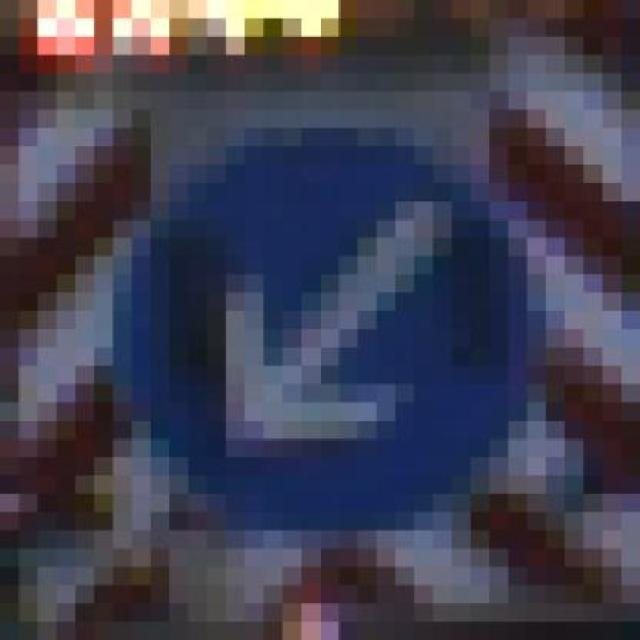Keep-Left: (75, 110, 583, 567)
